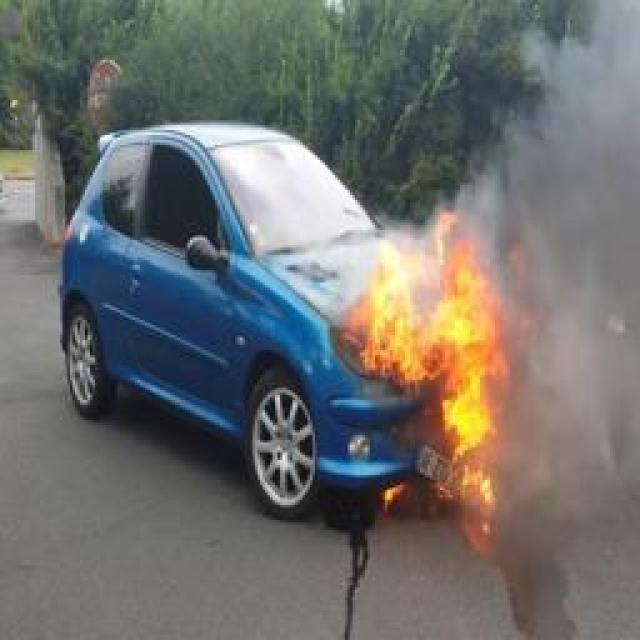Fire: (341, 208, 509, 556)
